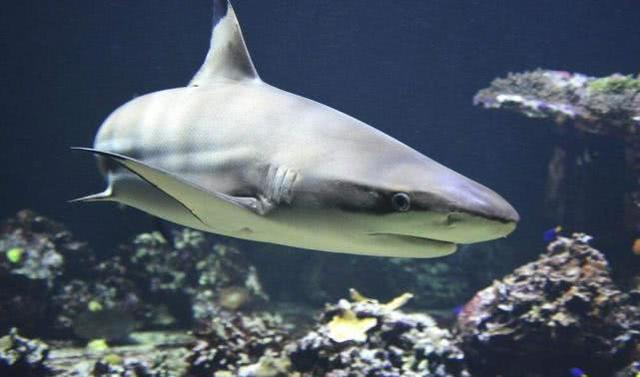fish: (71, 1, 519, 274)
